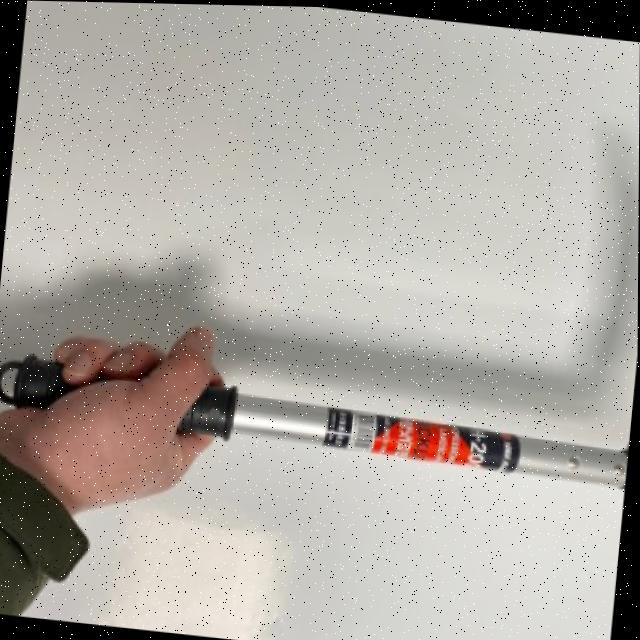sickle: (7, 100, 639, 549)
